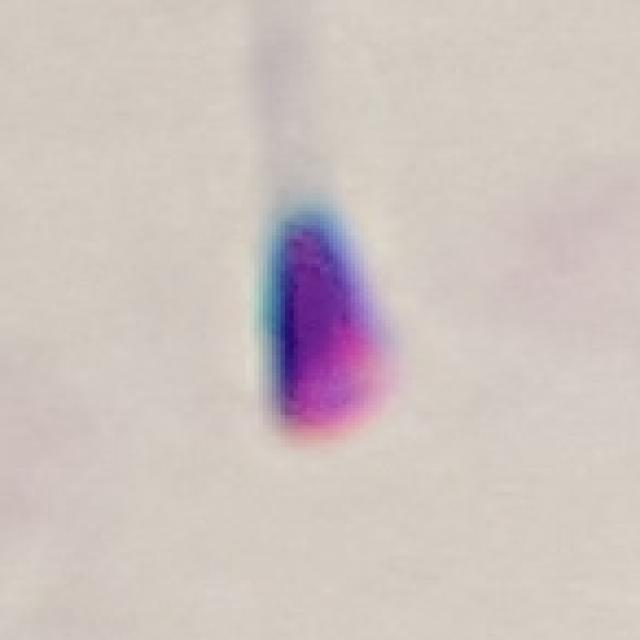abnormal sperm: (191, 11, 432, 474)
